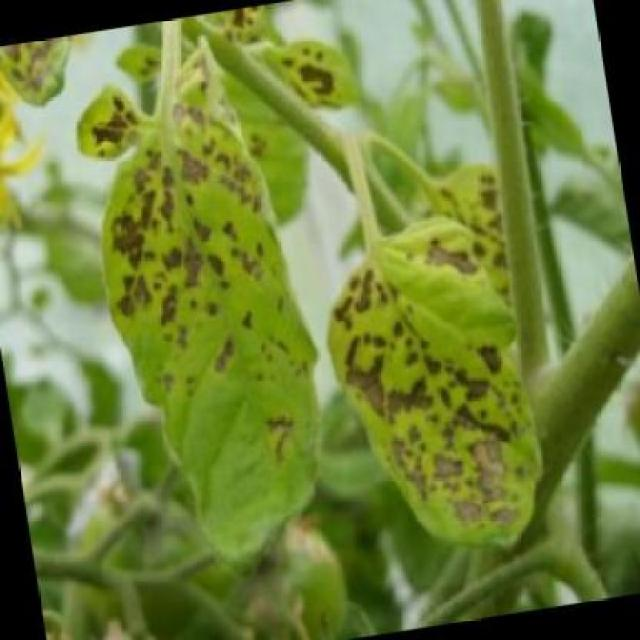Tomato leaf bacterial spot: (18, 58, 359, 609), (309, 201, 572, 589)
